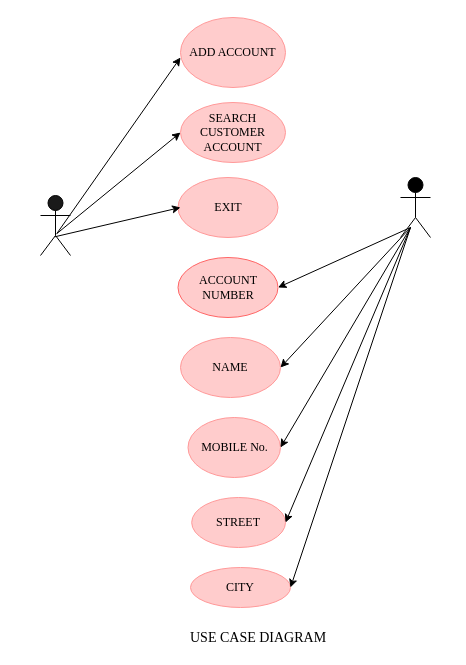
This 466x665 diagram has some shape labels left out. The shapes that lost their labels are listed below. From the top down, each one's centre as x and y in pixels, then its label:
(x=55, y=225): SHOPKEEPER
(x=415, y=207): CUSTOMER
